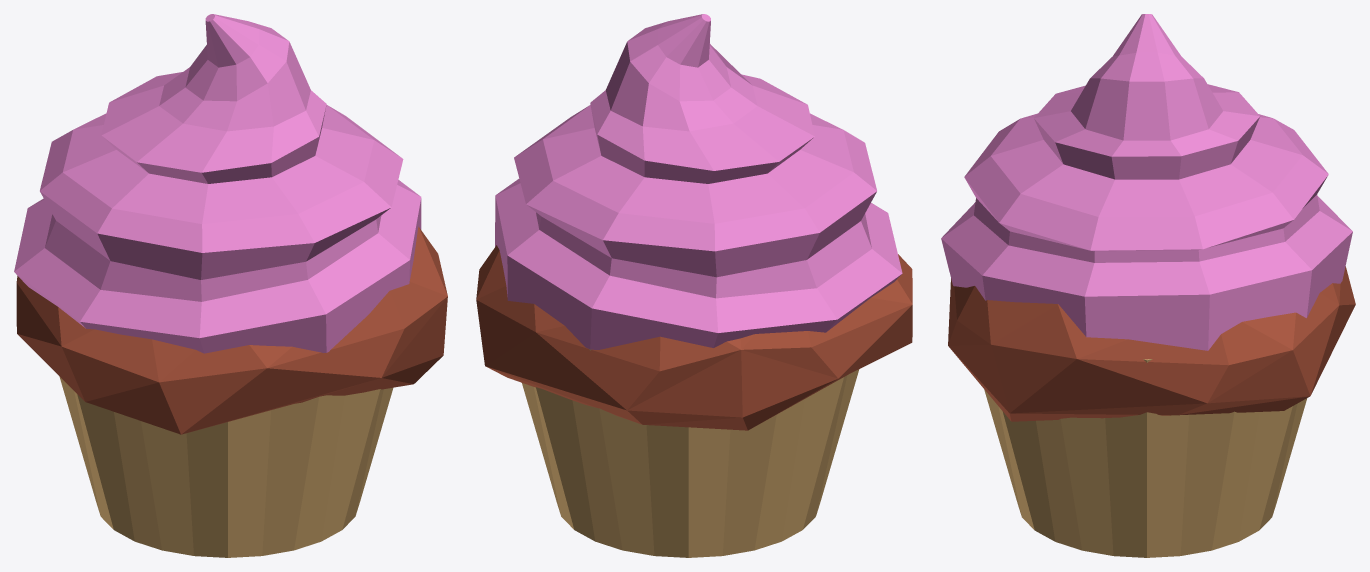
The model's file is item6.fbx.
The picture shows the model from 3 angles, left to right: view 1: azimuth 30°, elevation 25°; view 2: azimuth 150°, elevation 25°; view 3: azimuth 270°, elevation 25°; orthographic projection.
Parts seen in each view (by area): view 1: Cupcake.001, Cupcake, Cupcake.002; view 2: Cupcake.001, Cupcake, Cupcake.002; view 3: Cupcake.001, Cupcake, Cupcake.002.
Boxes of the visible parts, <box> form: Cupcake.001: <box>14,14,421,353</box>; Cupcake: <box>59,376,393,557</box>; Cupcake.002: <box>16,226,447,434</box>; Cupcake.001: <box>495,14,902,349</box>; Cupcake: <box>522,349,859,557</box>; Cupcake.002: <box>476,245,912,430</box>; Cupcake.001: <box>941,14,1352,350</box>; Cupcake: <box>984,359,1307,557</box>; Cupcake.002: <box>948,266,1355,421</box>.
Size of the model in its own units: 73.42 by 93.16 by 72.58.
